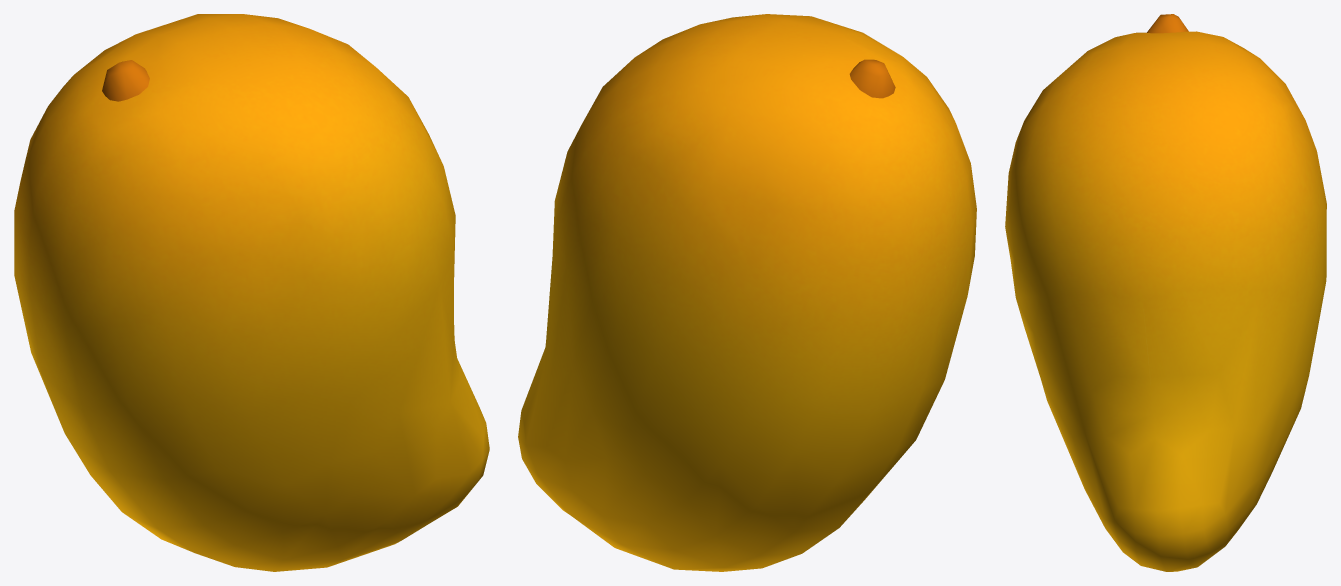
Rendered from Mango.fbx.
The picture shows the model from 3 angles, left to right: view 1: azimuth 30°, elevation 25°; view 2: azimuth 150°, elevation 25°; view 3: azimuth 270°, elevation 25°; orthographic projection. The views are drawn at different scales.
Visible parts, largest first — view 1: Mango; view 2: Mango; view 3: Mango.
Boxes of the visible parts, bbox=[...] form: Mango: bbox=[14, 14, 489, 571]; Mango: bbox=[518, 14, 976, 571]; Mango: bbox=[1005, 14, 1326, 571].
Size of the model in its own units: 191 by 230 by 146.
1 material, 1 textured.
